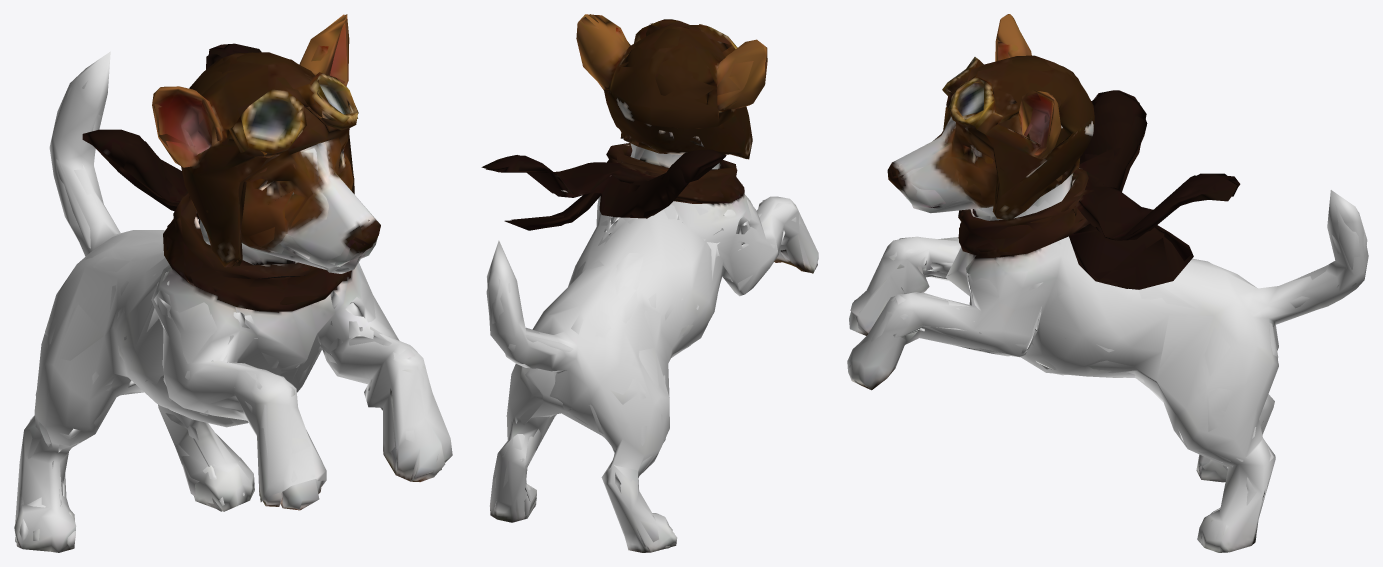
Rendered from detail_11_lo.glb.
The picture shows the model from 3 angles, left to right: view 1: azimuth 30°, elevation 25°; view 2: azimuth 150°, elevation 25°; view 3: azimuth 270°, elevation 25°; orthographic projection. The views are drawn at different scales.
Parts seen in each view (by area): view 1: Mesh_0.001; view 2: Mesh_0.001; view 3: Mesh_0.001.
Part boxes in pixels (box(x1,y1,x2,y2)): Mesh_0.001: box(14, 14, 452, 552); Mesh_0.001: box(481, 14, 818, 552); Mesh_0.001: box(847, 14, 1368, 552).
Size of the model in its own units: 0.4554 by 0.969 by 0.9977.
1 material, 1 textured.
